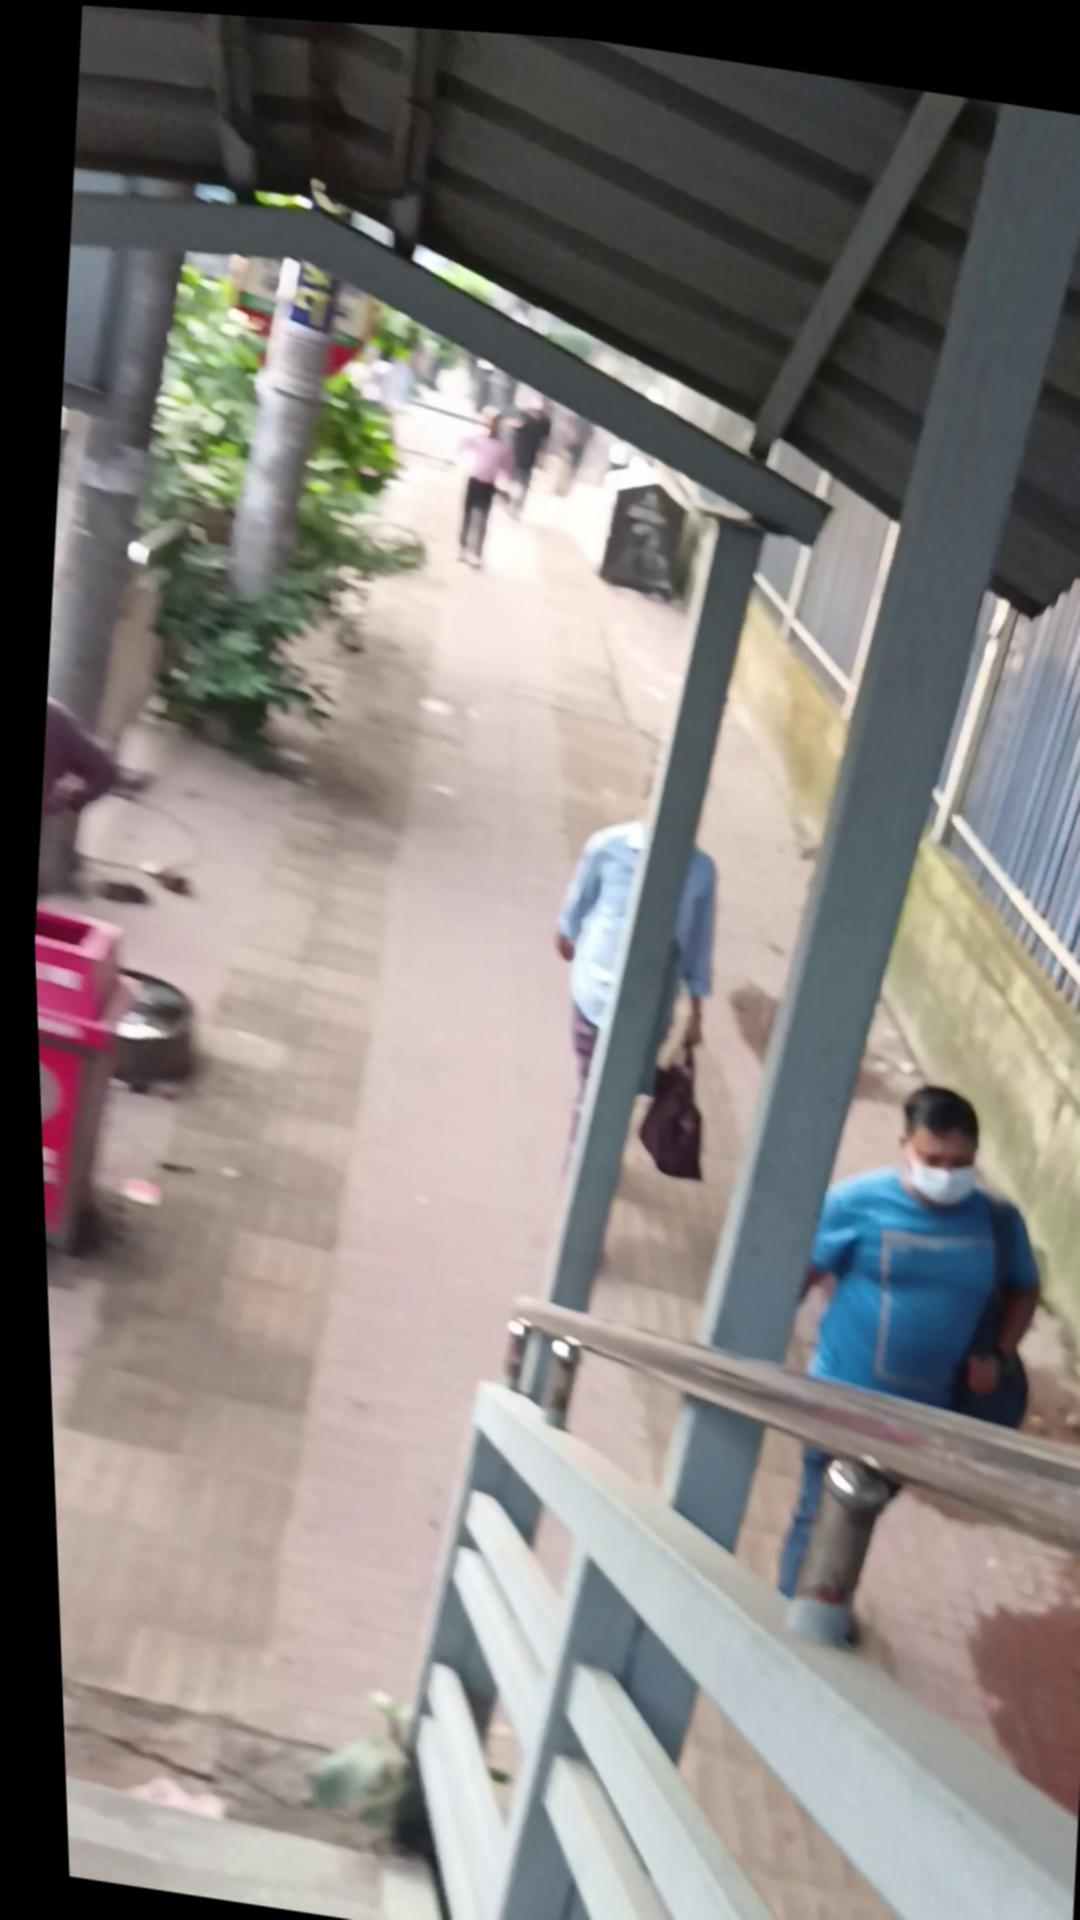Dog: (47, 1626, 1071, 1920)
Garbage: (26, 902, 137, 1263)
Muddy road: (744, 1050, 1058, 1639), (520, 732, 731, 1191), (438, 396, 518, 567), (497, 393, 553, 516)
Obstacle: (208, 243, 353, 613)
